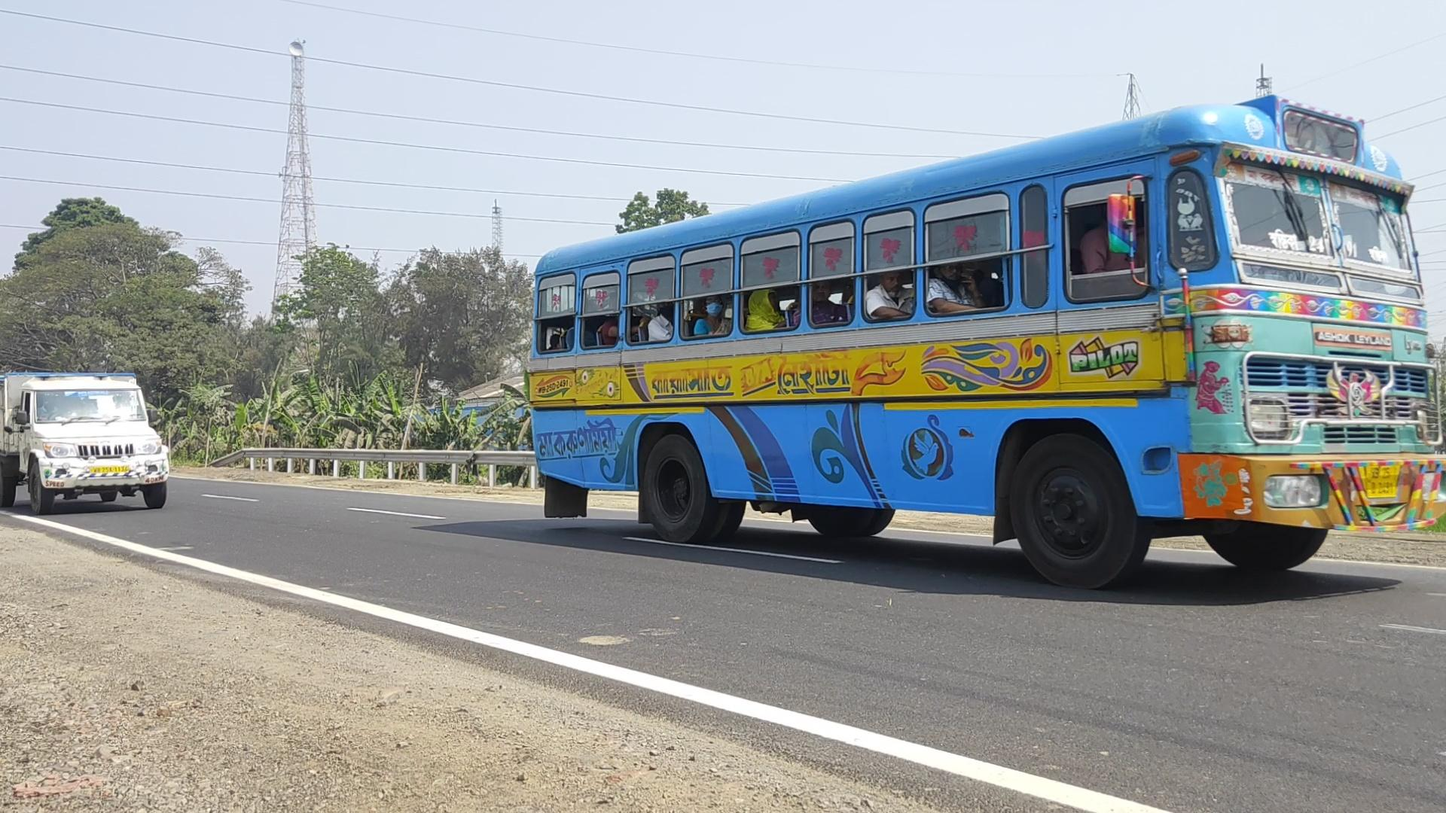Bus: (528, 93, 1446, 592)
van: (1, 374, 167, 514)
